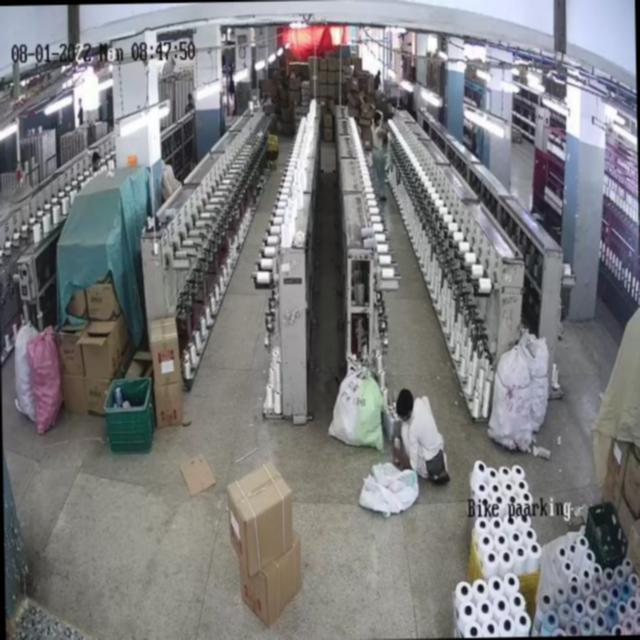person: (398, 370, 447, 476), (366, 113, 393, 208)
